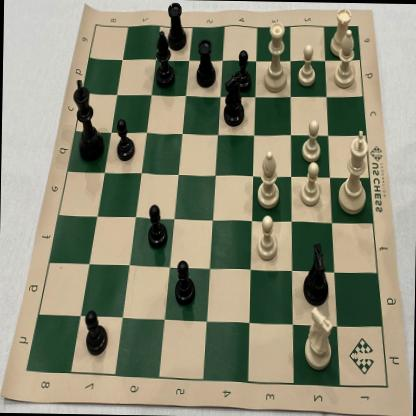black-bishop: (150, 28, 177, 90)
black-king: (70, 73, 107, 166)
black-knight: (296, 240, 333, 307), (218, 70, 247, 130)
black-pawn: (170, 253, 198, 309), (82, 306, 110, 359), (144, 198, 169, 252), (113, 114, 136, 164), (232, 46, 254, 92)
black-rook: (192, 34, 218, 90), (164, 0, 189, 53)
white-bishop: (329, 27, 362, 92), (252, 145, 284, 211)
white-king: (334, 126, 371, 218)
white-knight: (300, 302, 336, 375)
white-pawn: (254, 213, 282, 269), (296, 158, 326, 209), (294, 38, 318, 89), (298, 118, 324, 164)
white-queen: (259, 17, 291, 97)
white-rook: (325, 6, 355, 66)
